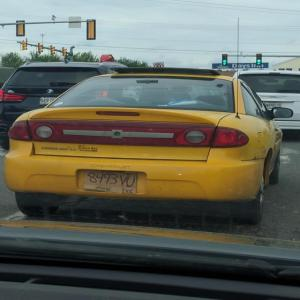Plate: (84, 170, 139, 194), (40, 97, 57, 104), (264, 102, 282, 108)
